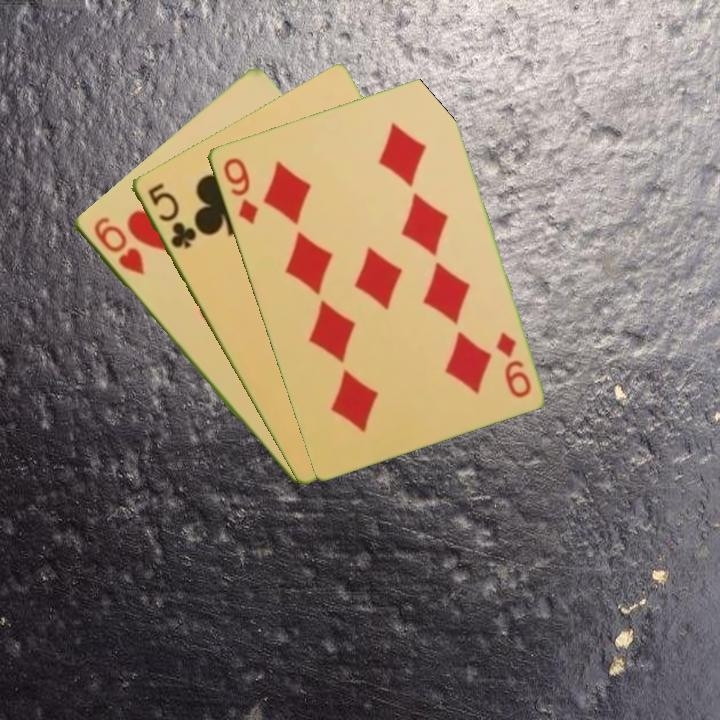5c: (143, 179, 199, 252)
6h: (89, 213, 147, 278)
9d: (491, 328, 534, 401), (219, 153, 261, 227)
